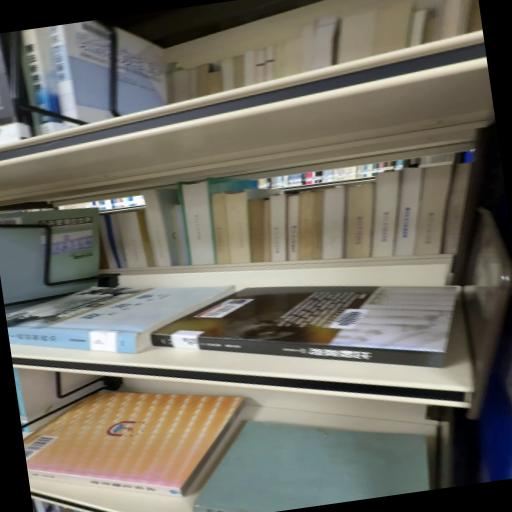flat: (151, 286, 459, 368), (23, 391, 244, 496), (193, 421, 429, 512), (7, 285, 235, 353)
